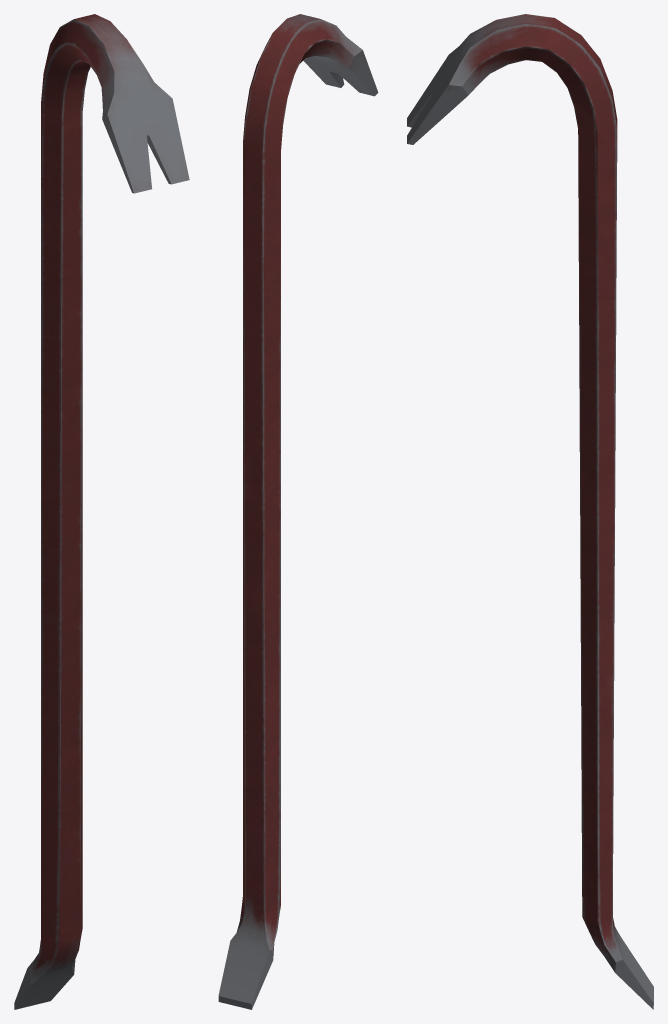
Rendered from Crowbar.fbx.
The picture shows the model from 3 angles, left to right: view 1: azimuth 30°, elevation 25°; view 2: azimuth 150°, elevation 25°; view 3: azimuth 270°, elevation 25°; orthographic projection. The views are drawn at different scales.
Parts seen in each view (by area): view 1: crowbar_low; view 2: crowbar_low; view 3: crowbar_low.
Part boxes in pixels (left/top/right/bottom): crowbar_low: left=14, top=14, right=189, bottom=1009; crowbar_low: left=218, top=14, right=378, bottom=1009; crowbar_low: left=407, top=14, right=653, bottom=1009.
Size of the model in its own units: 11.05 by 167 by 37.98.
